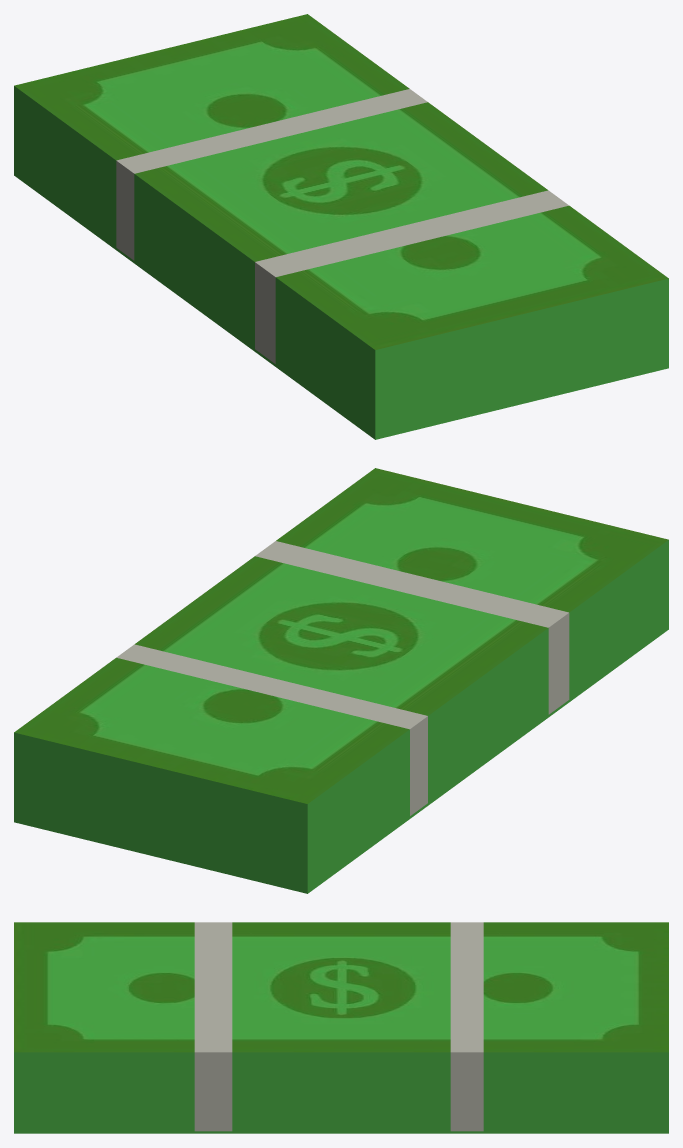
File: dolarcik.fbx
3 renders of one model, top to bottom at view 1: azimuth 30°, elevation 25°; view 2: azimuth 150°, elevation 25°; view 3: azimuth 270°, elevation 25°, orthographic. The views are drawn at different scales.
Visible parts, largest first — view 1: Cube; view 2: Cube; view 3: Cube.
Boxes of the visible parts, box(x1,y1,x2,y2) form: Cube: box(14, 14, 668, 439); Cube: box(14, 468, 668, 893); Cube: box(14, 922, 668, 1133).
Bounding box in the file's own units: 68.01 × 19.87 × 145.
2 materials, 1 textured.
